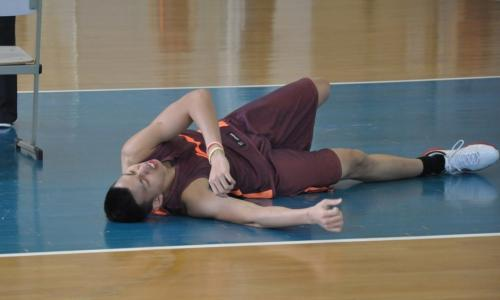down: (103, 71, 493, 239)
